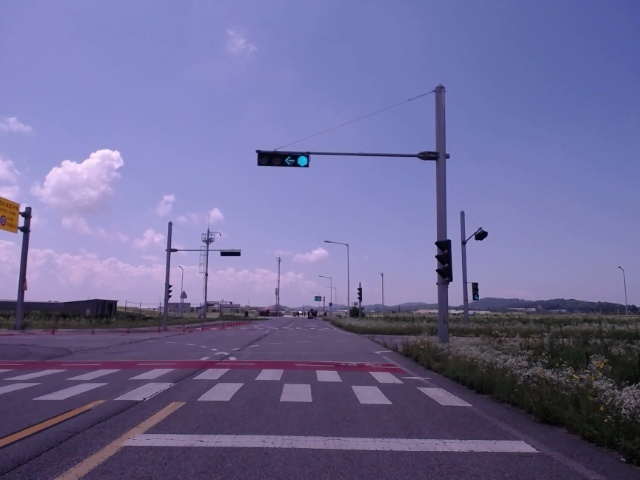all_green_4: (255, 152, 308, 165)
